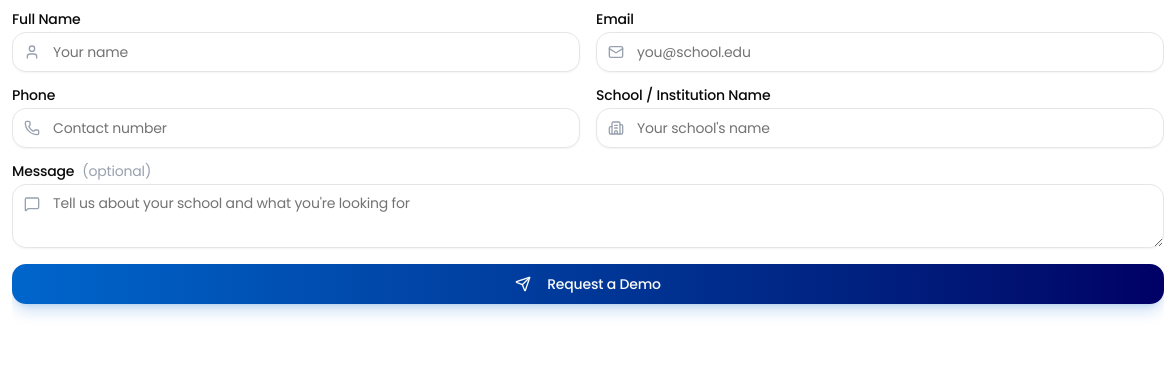
Test case: DemoRequestForm › shows validation errors and does not submit when required fields are missing
Click the button "Request a Demo" at (588, 284), box [12,264,1164,304]
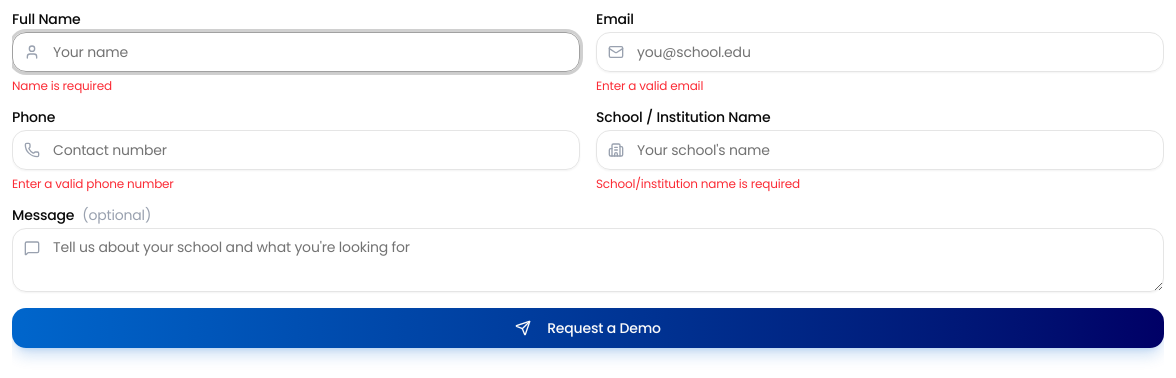
expect the text "Name is required" is shown: met, box [12,77,112,94]
